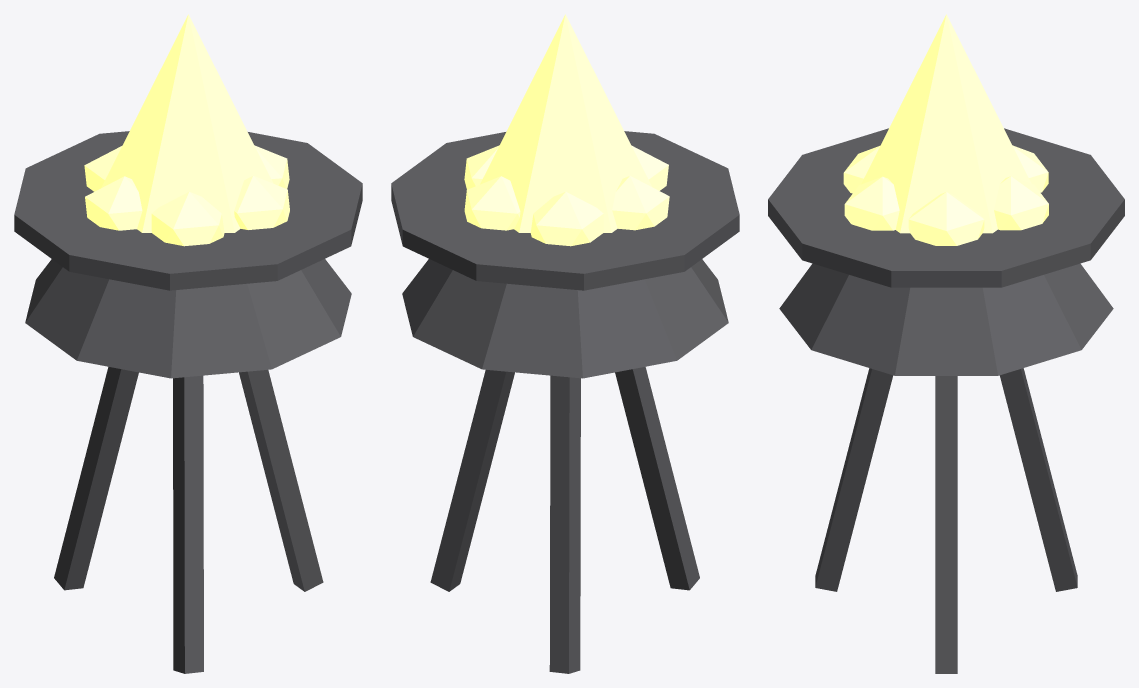
The model's file is Brazier.glb.
3 views of the same model, side by side, from view 1: azimuth 30°, elevation 25°; view 2: azimuth 150°, elevation 25°; view 3: azimuth 270°, elevation 25° (orthographic).
Visible parts, largest first — view 1: Brazier; view 2: Brazier; view 3: Brazier.
Part boxes in pixels (left/top/right/bottom): Brazier: left=14, top=14, right=362, bottom=673; Brazier: left=391, top=14, right=739, bottom=673; Brazier: left=768, top=14, right=1124, bottom=673.
Bounding box in the file's own units: 0.913 × 1.79 × 0.96.
